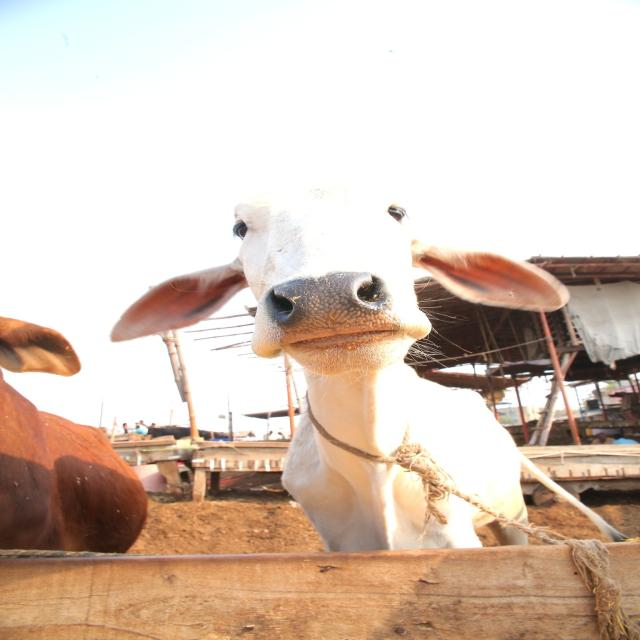muzzles: (253, 267, 403, 348)
